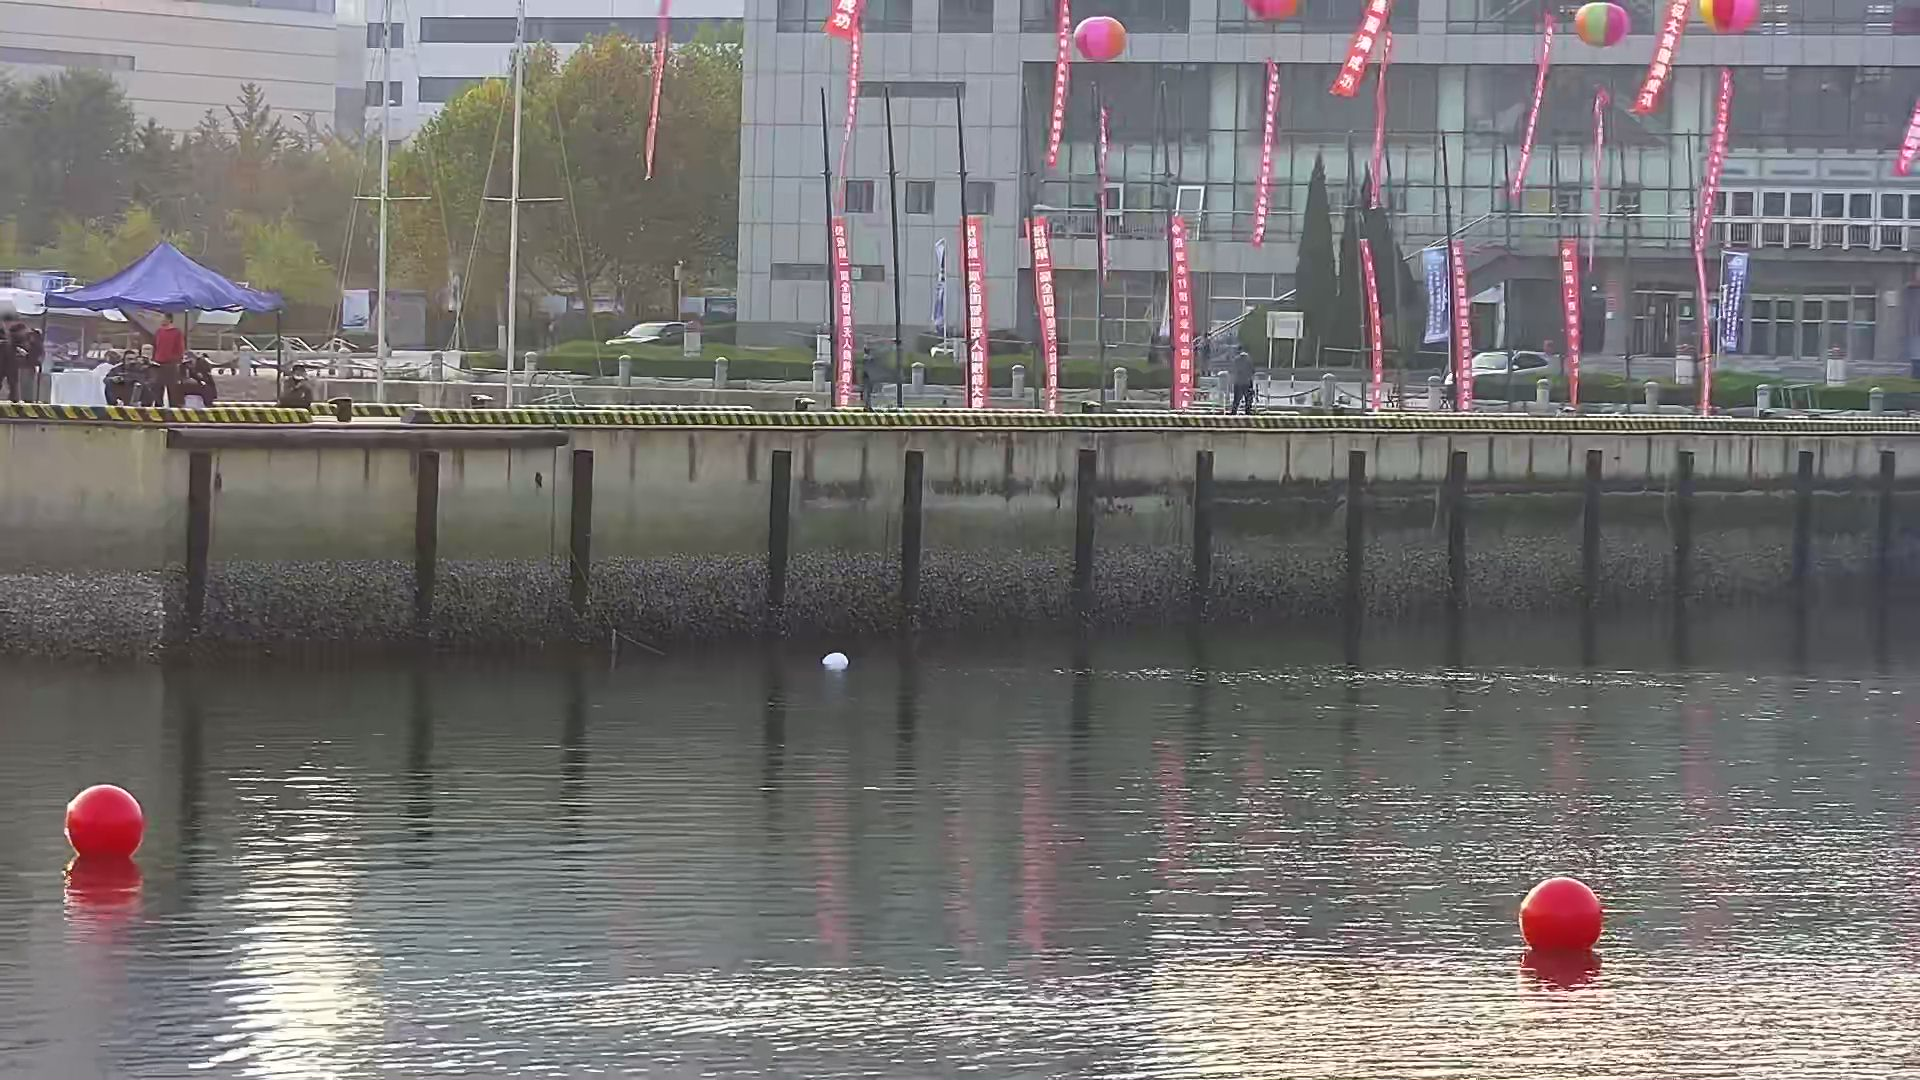ball: (1518, 876, 1606, 960), (63, 789, 145, 858)
rubbish: (818, 650, 855, 673)
